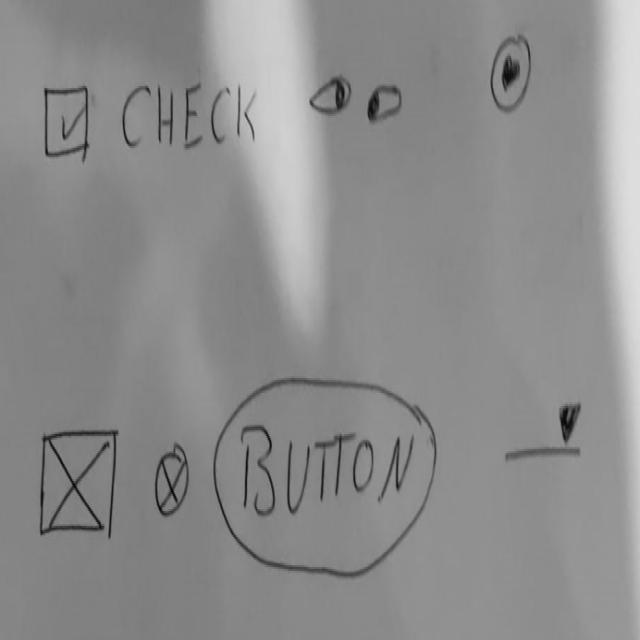button: (211, 372, 439, 582)
checkbox: (44, 77, 260, 167)
icon-button: (488, 32, 534, 119)
image: (38, 421, 121, 544), (153, 442, 193, 526)
select: (503, 396, 587, 465)
toggle: (310, 75, 356, 120), (368, 82, 404, 132)
